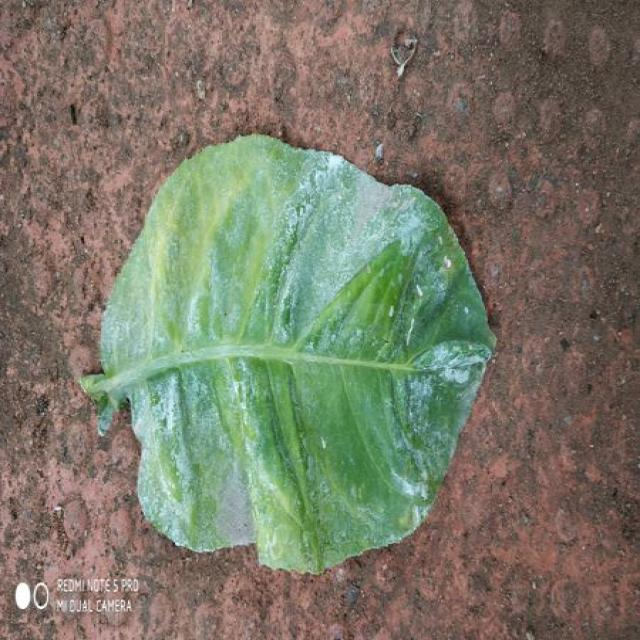badipala: (80, 135, 495, 573)
disease in leaf: (123, 135, 493, 358), (82, 345, 255, 550)
